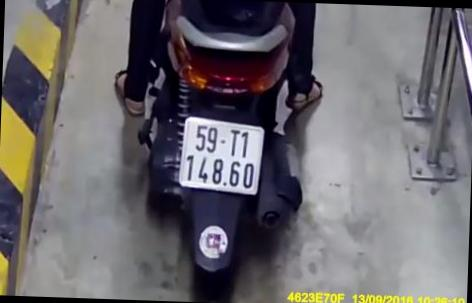LP: (178, 114, 266, 195)
